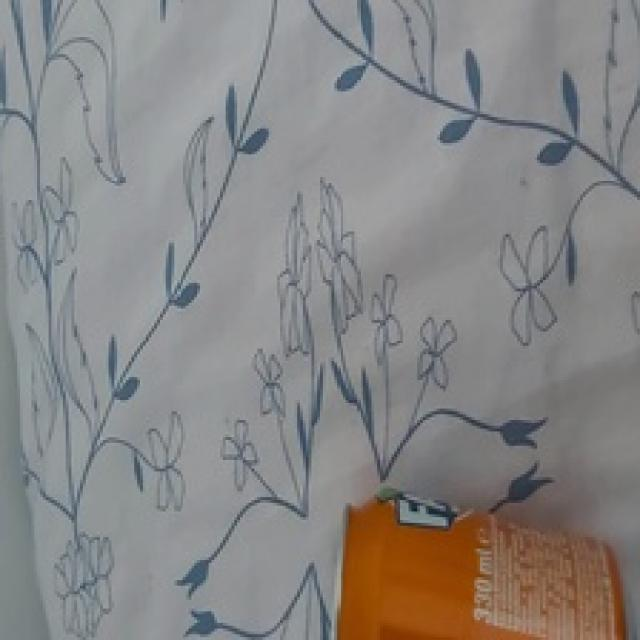recyclable: (328, 488, 628, 640)
